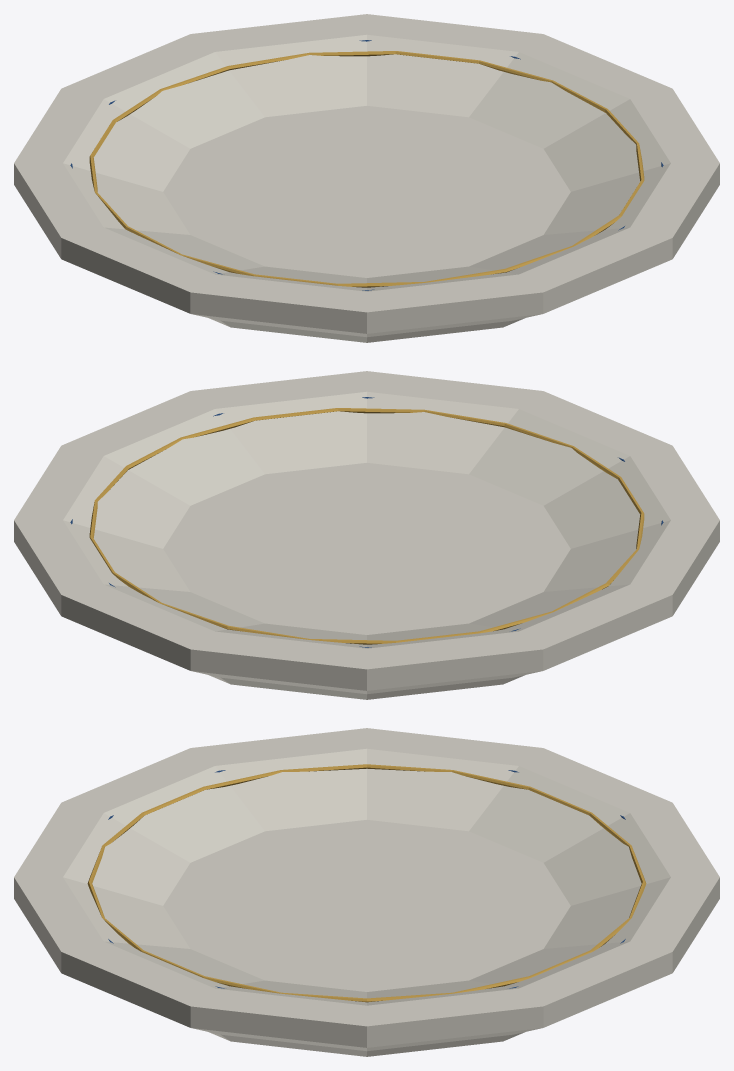
File: plate.glb
3 views of the same model, one above another, from view 1: azimuth 30°, elevation 25°; view 2: azimuth 150°, elevation 25°; view 3: azimuth 270°, elevation 25° (orthographic).
Parts seen in each view (by area): view 1: plate; view 2: plate; view 3: plate.
Part boxes in pixels (left/top/right/bottom): plate: left=14, top=14, right=719, bottom=342; plate: left=14, top=371, right=719, bottom=699; plate: left=14, top=728, right=719, bottom=1056.
Size of the model in its own units: 0.8918 by 0.09 by 0.8918.
